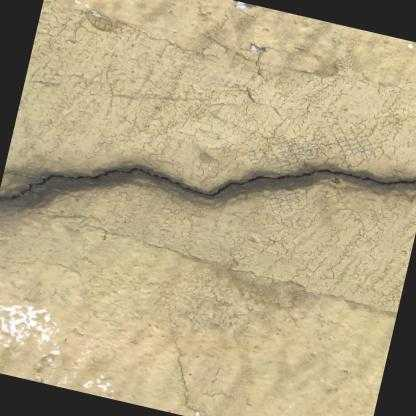crack: (0, 167, 416, 200)
